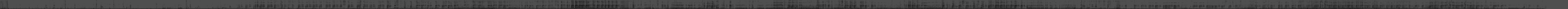Moan: (472, 0, 475, 9), (1000, 0, 1003, 9), (1014, 0, 1017, 9), (387, 0, 389, 9), (404, 0, 406, 9), (410, 0, 412, 9), (416, 0, 418, 9), (711, 0, 713, 9), (850, 0, 852, 9), (860, 0, 862, 9), (575, 0, 576, 9)
